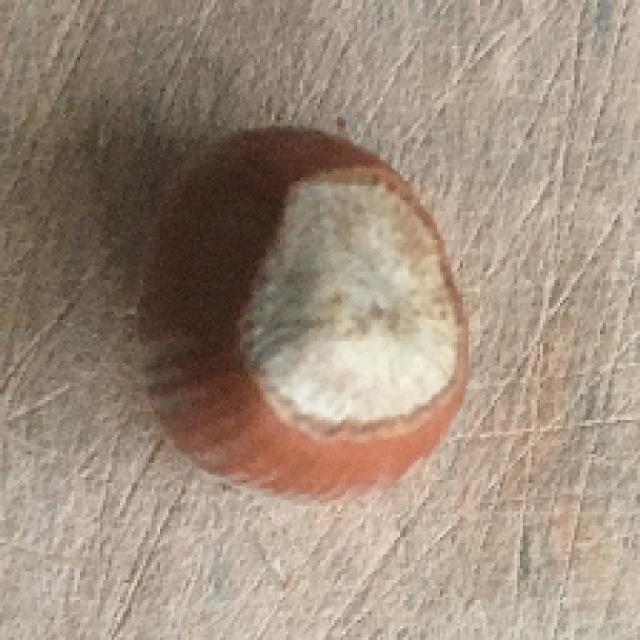QualityHazelnut: (135, 123, 474, 506)
